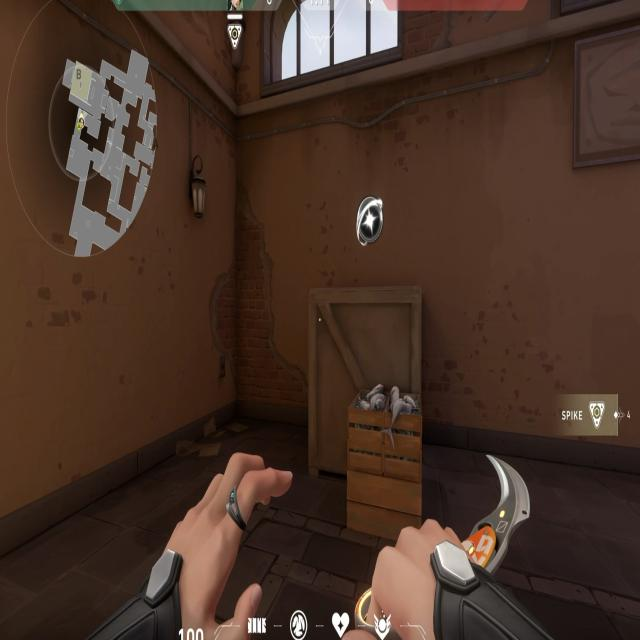B_Main_Wallbang: (304, 190, 432, 546)
Throwables: (258, 0, 425, 101)
